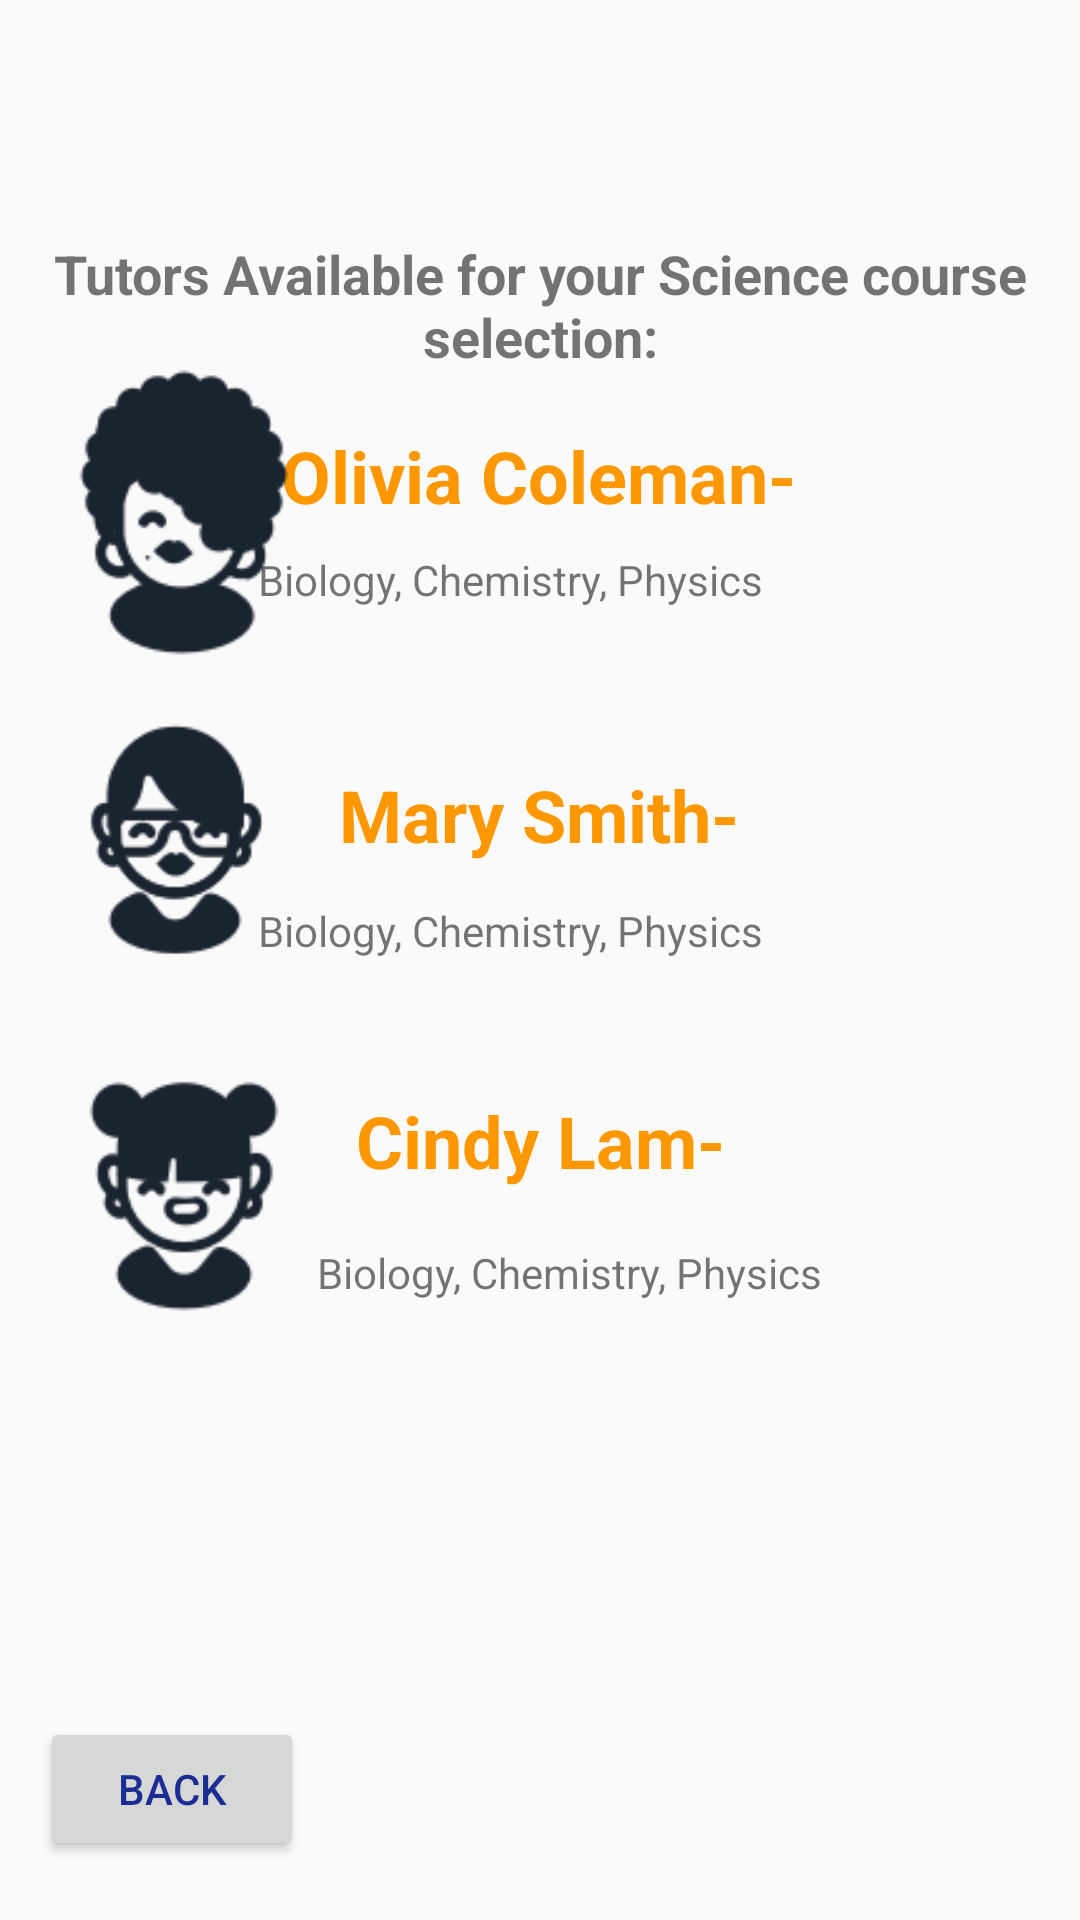

Screen size 1080 x 1920. Icon name, then its box in pixels as region(x1, y1, x2, y2):
femalebuns: region(90, 1081, 351, 1311)
femaleglasses: region(90, 725, 325, 954)
